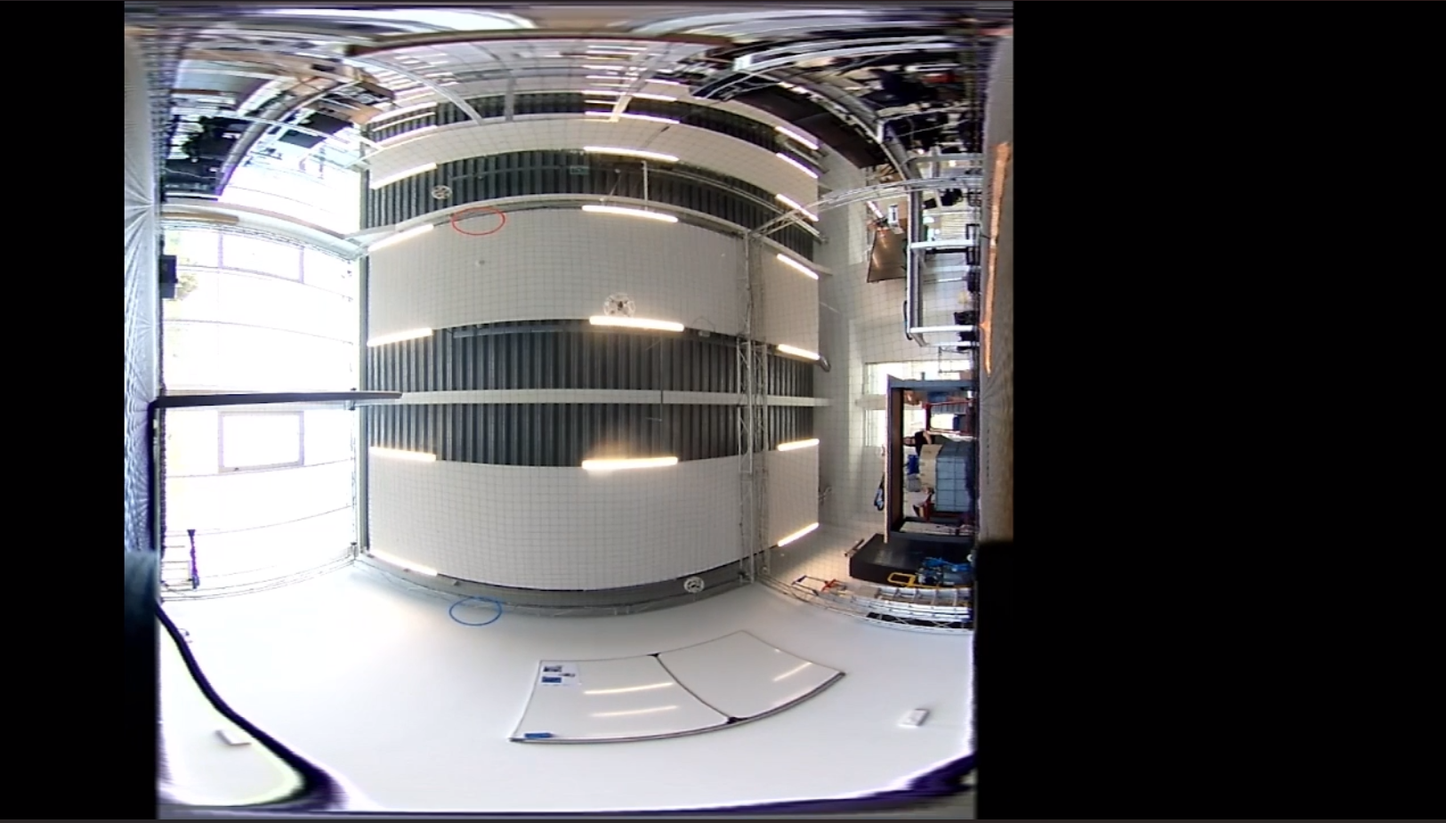Drone: (602, 292, 637, 322), (683, 575, 705, 594), (429, 183, 453, 200)
